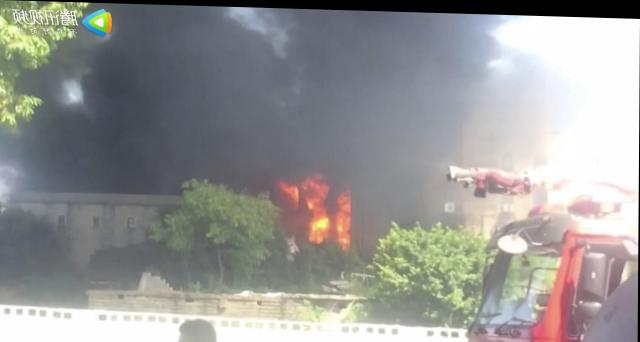fire: (338, 186, 351, 248), (310, 213, 329, 242), (309, 196, 328, 213), (312, 180, 329, 195), (292, 181, 300, 205), (302, 175, 314, 188), (282, 180, 293, 192)
